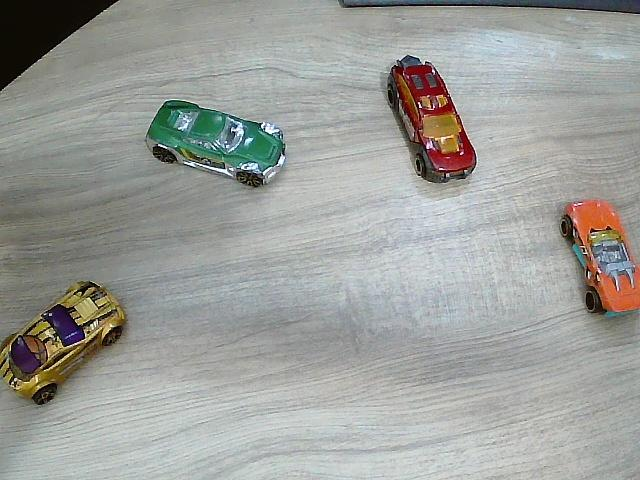Carro: (0, 282, 126, 406), (146, 102, 285, 188), (387, 56, 477, 184), (560, 199, 639, 315)
